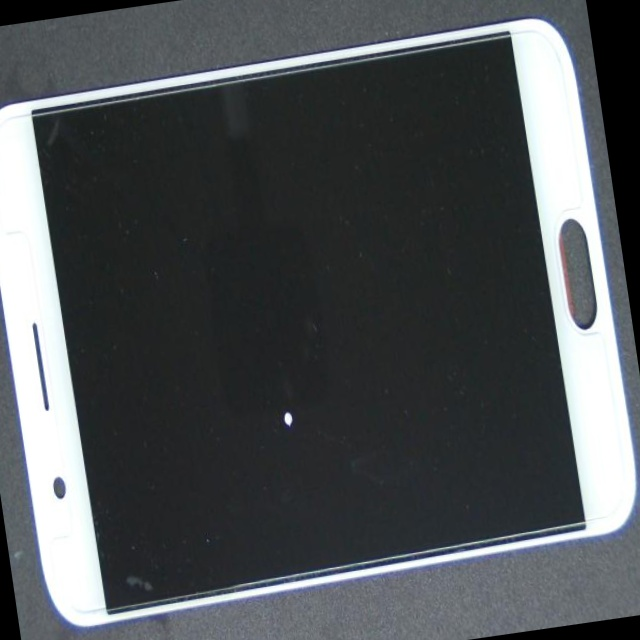stain: (109, 116, 446, 592)
